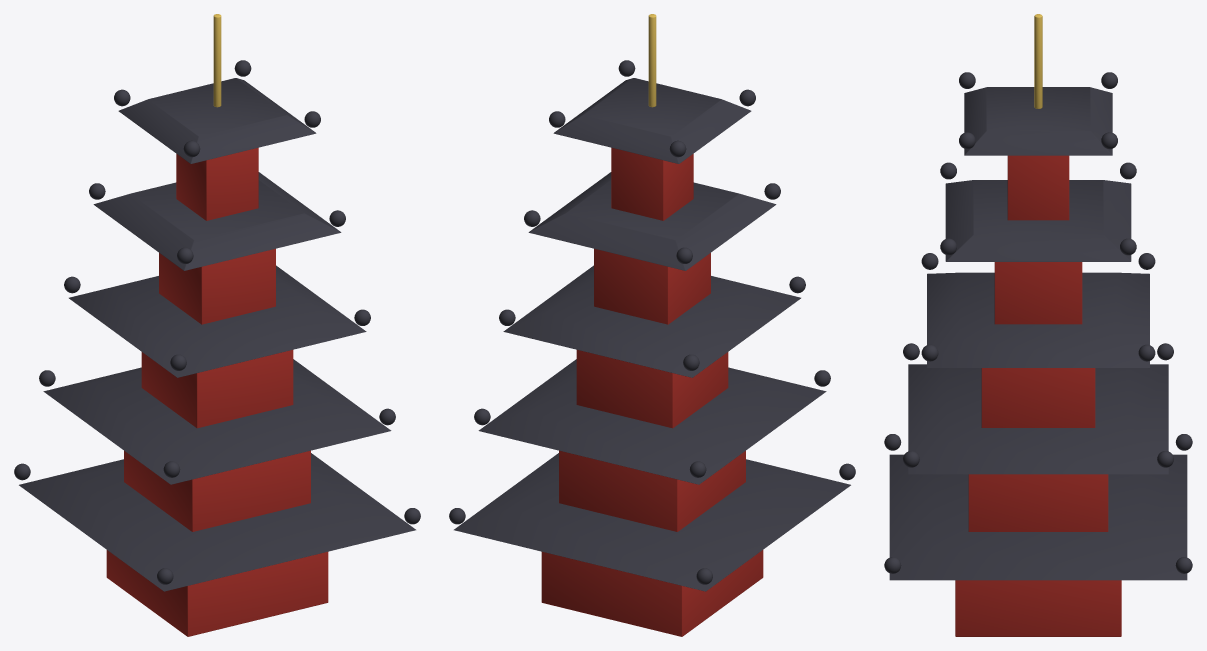
File: rg_japao_1.glb
The picture shows the model from 3 angles, left to right: view 1: azimuth 30°, elevation 25°; view 2: azimuth 150°, elevation 25°; view 3: azimuth 270°, elevation 25°; orthographic projection. The views are drawn at different scales.
Parts seen in each view (by area): view 1: rg_japao_1; view 2: rg_japao_1; view 3: rg_japao_1.
Part boxes in pixels (x1=…): rg_japao_1: x1=14, y1=14, x2=420, y2=636; rg_japao_1: x1=449, y1=14, x2=855, y2=636; rg_japao_1: x1=884, y1=14, x2=1192, y2=636.
Size of the model in its own units: 9.09 by 19.1 by 9.1.
